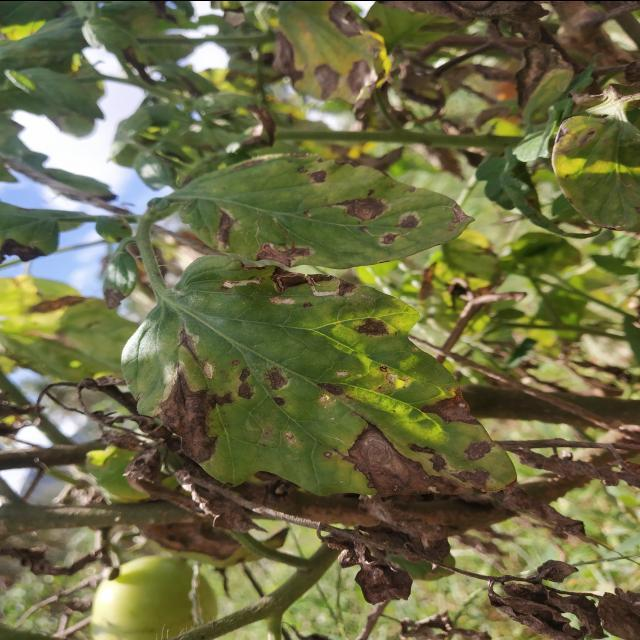Tomato mosaic virus leaf: (132, 310, 520, 498), (179, 152, 479, 268)
